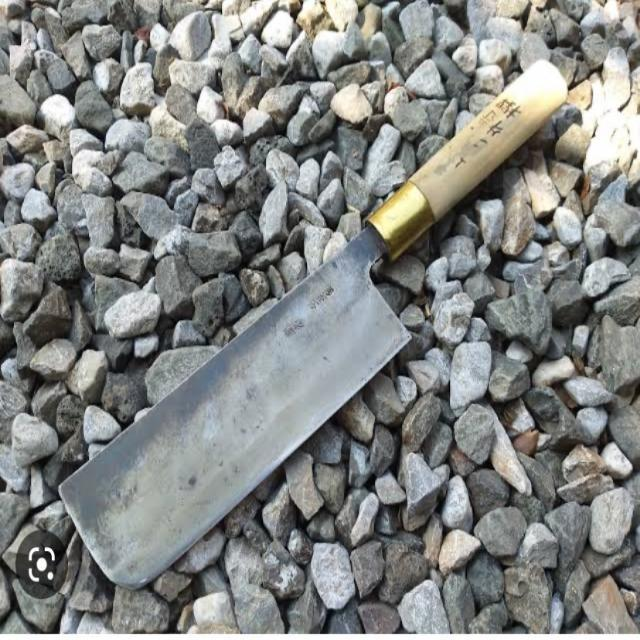Knife: (45, 47, 582, 610)
